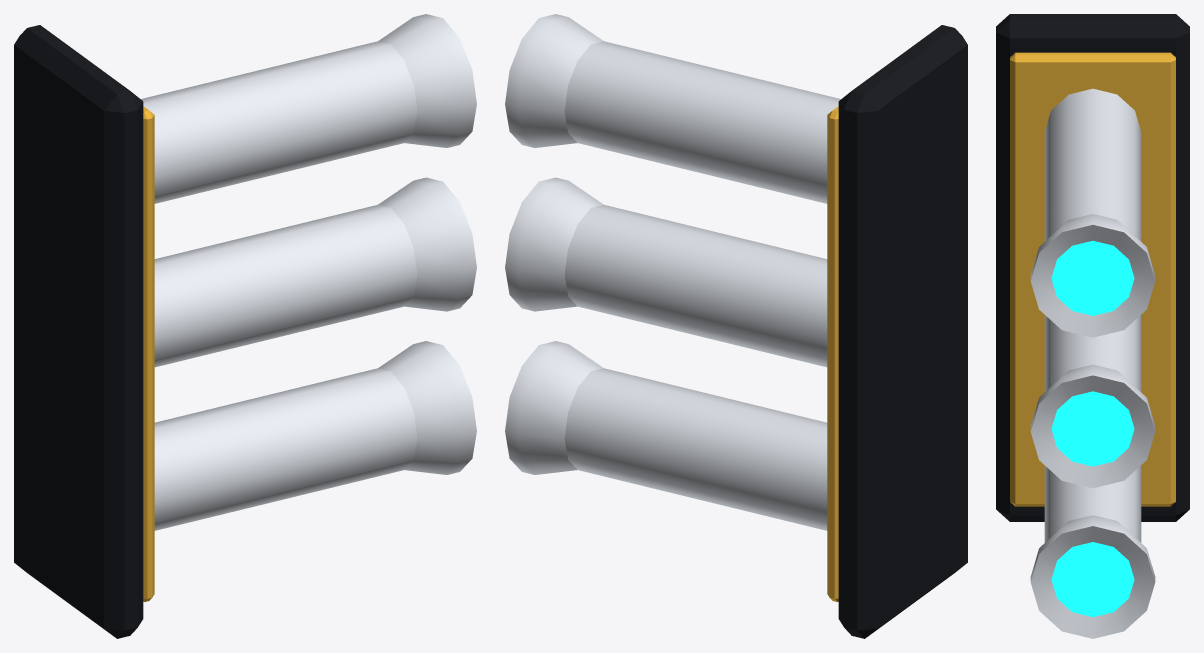
Rendered from stack_side_triple.glb.
The picture shows the model from 3 angles, left to right: view 1: azimuth 30°, elevation 25°; view 2: azimuth 150°, elevation 25°; view 3: azimuth 270°, elevation 25°; orthographic projection. The views are drawn at different scales.
Parts seen in each view (by area): view 1: stack_side_triple_chrome, stack_side_triple_deco_body, stack_side_triple_paint_gold; view 2: stack_side_triple_chrome, stack_side_triple_deco_body, stack_side_triple_paint_gold; view 3: stack_side_triple_chrome, stack_side_triple_paint_gold, stack_side_triple_deco_body, stack_side_triple_deco_neon.
Part boxes in pixels (x1=…): stack_side_triple_chrome: x1=141, y1=14, x2=476, y2=530; stack_side_triple_deco_body: x1=14, y1=25, x2=143, y2=638; stack_side_triple_paint_gold: x1=143, y1=106, x2=154, y2=601; stack_side_triple_chrome: x1=505, y1=14, x2=840, y2=530; stack_side_triple_deco_body: x1=838, y1=25, x2=967, y2=638; stack_side_triple_paint_gold: x1=827, y1=106, x2=838, y2=601; stack_side_triple_chrome: x1=1030, y1=88, x2=1155, y2=638; stack_side_triple_paint_gold: x1=1010, y1=52, x2=1175, y2=506; stack_side_triple_deco_body: x1=996, y1=14, x2=1189, y2=521; stack_side_triple_deco_neon: x1=1051, y1=240, x2=1134, y2=616.
Size of the model in its own units: 0.295 by 0.4 by 0.14.
